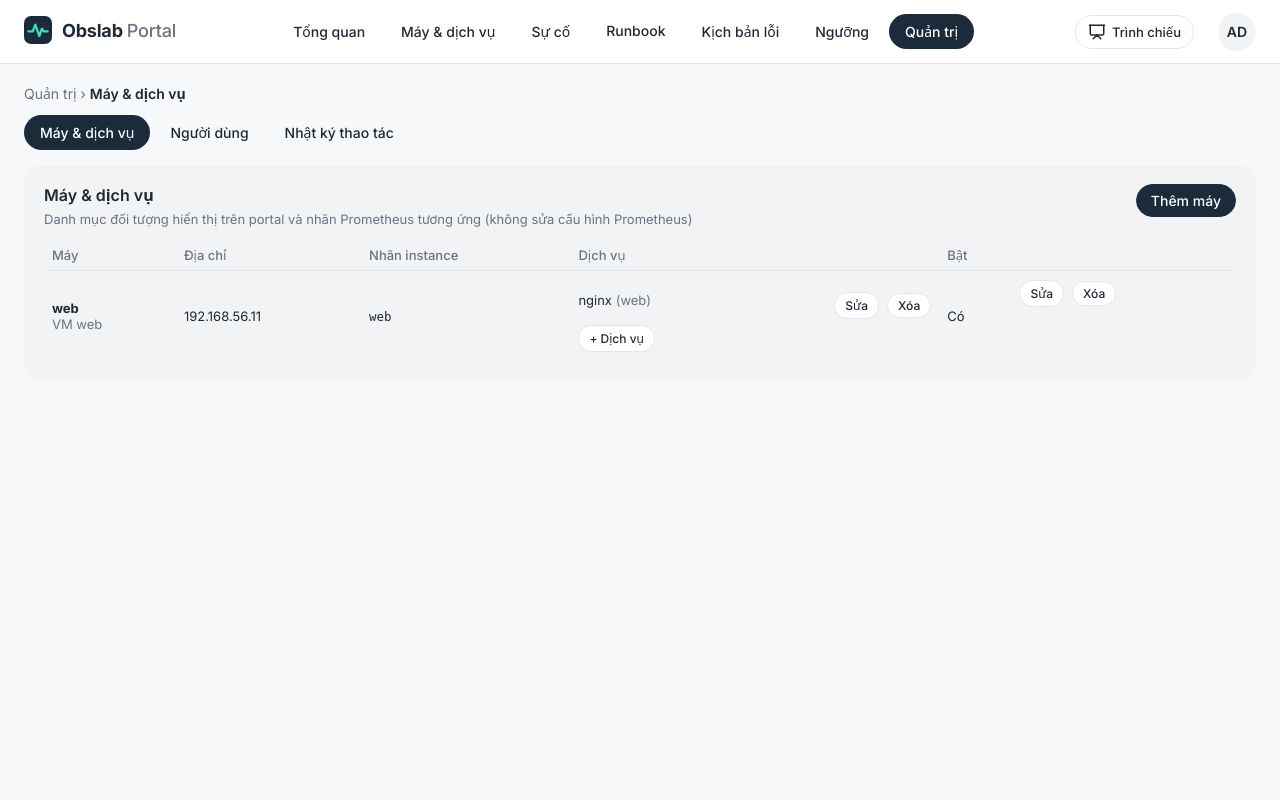
it: quản trị: máy & dịch vụ › thêm dịch vụ: đọc nhãn dạng job=..., service=...; lỗi backend hiện trong hộp thoại
This screenshot has width=1280, height=800.
Step 1. Click the button "+ Dịch vụ" → (617, 338), box [578,325,655,352]
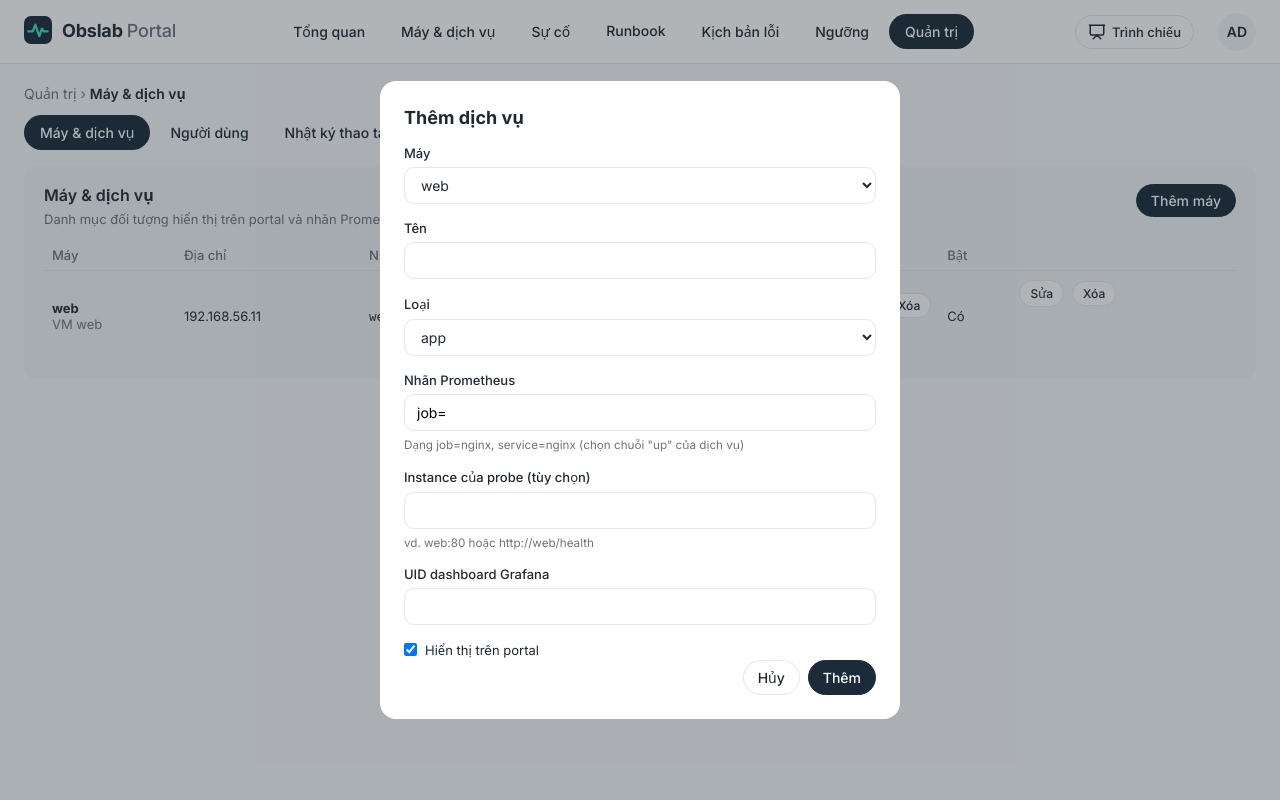
Step 2. Type "nginx" into the field labelled "Tên" → (640, 261), box [404,242,876,279]
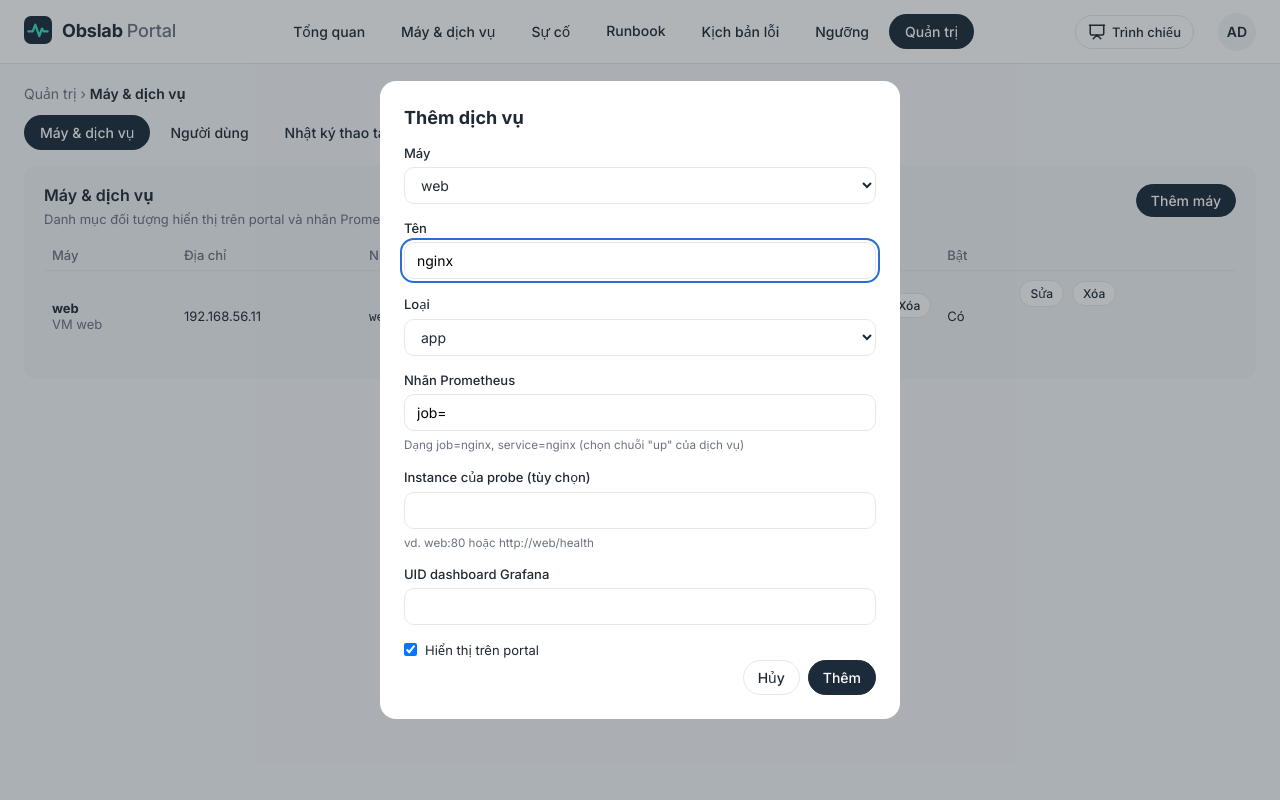
Step 3. Click the button "Thêm" → (842, 677), box [808,660,876,695]
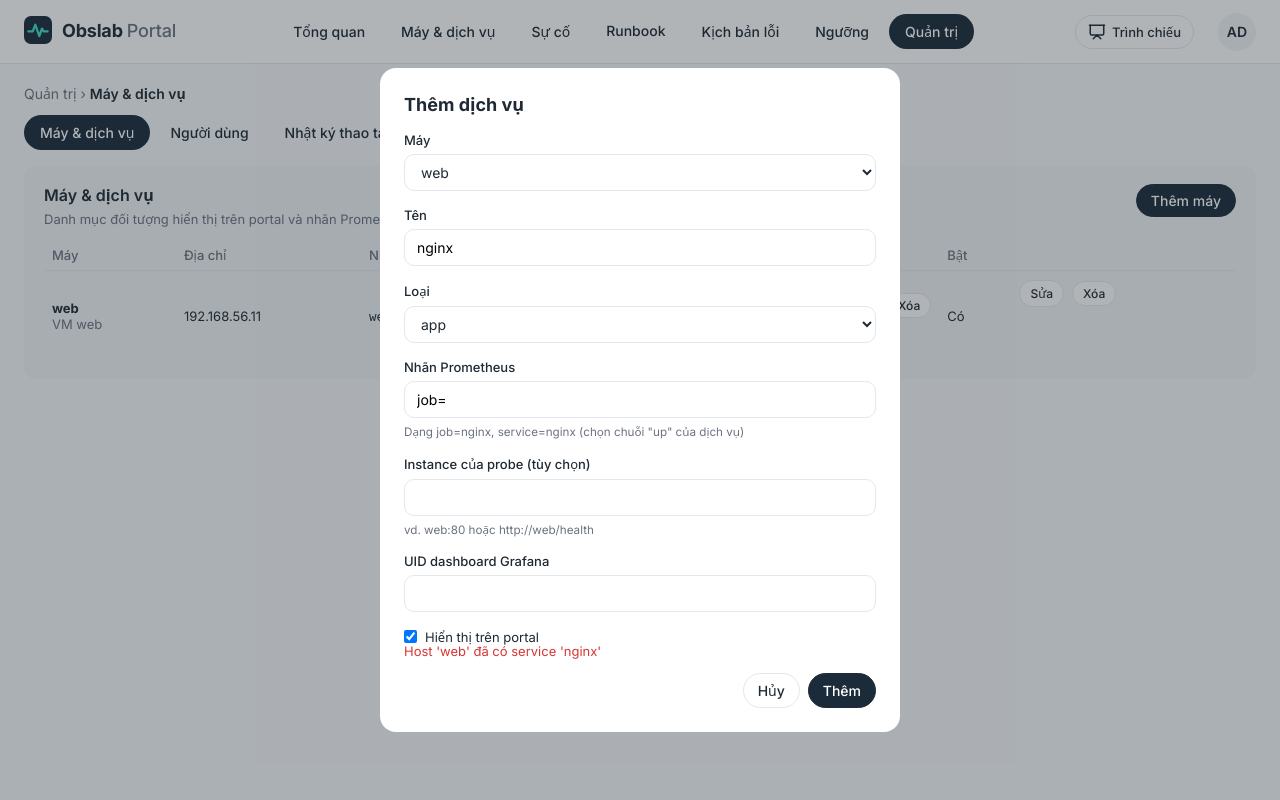
Result: the text "Host 'web' đã có service 'nginx'" is shown at [404,643,601,659]
